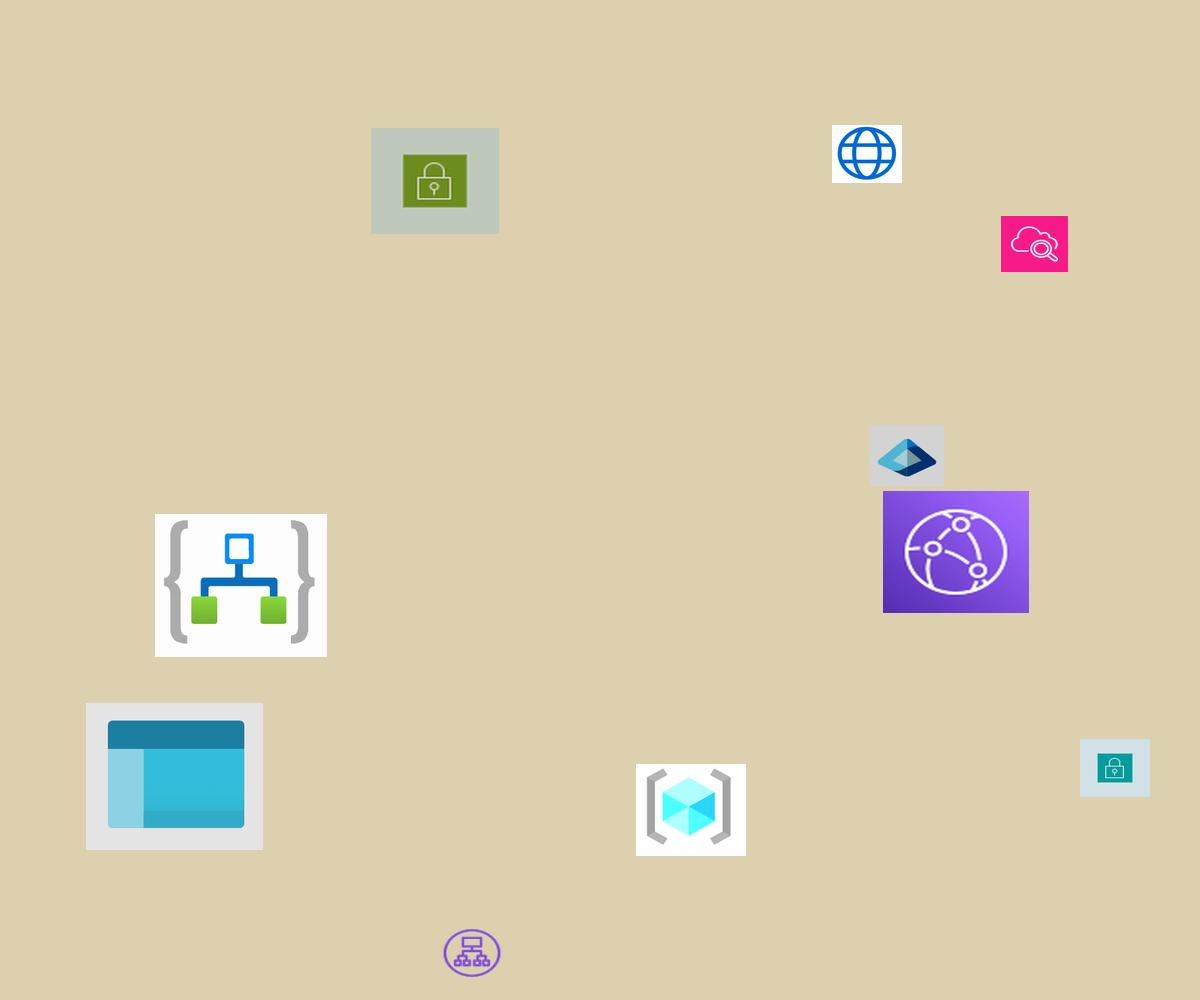AWS-CloudFront: (883, 491, 1029, 613)
AWS-CloudWatch: (1001, 216, 1068, 272)
AWS-Private-subnet: (1080, 739, 1150, 797)
AWS-Public-subnet: (371, 128, 499, 234)
AWS-Res_Elastic-Load-Balancing_Application-Load-Balancer: (441, 927, 503, 979)
Azure_http: (832, 125, 902, 183)
Azure_integration-204-Logic-Apps: (155, 514, 327, 657)
Azure_management-portal: (86, 703, 263, 850)
Azure_microsoft_entra: (870, 425, 944, 486)
Azure_resource_group: (636, 764, 746, 856)
